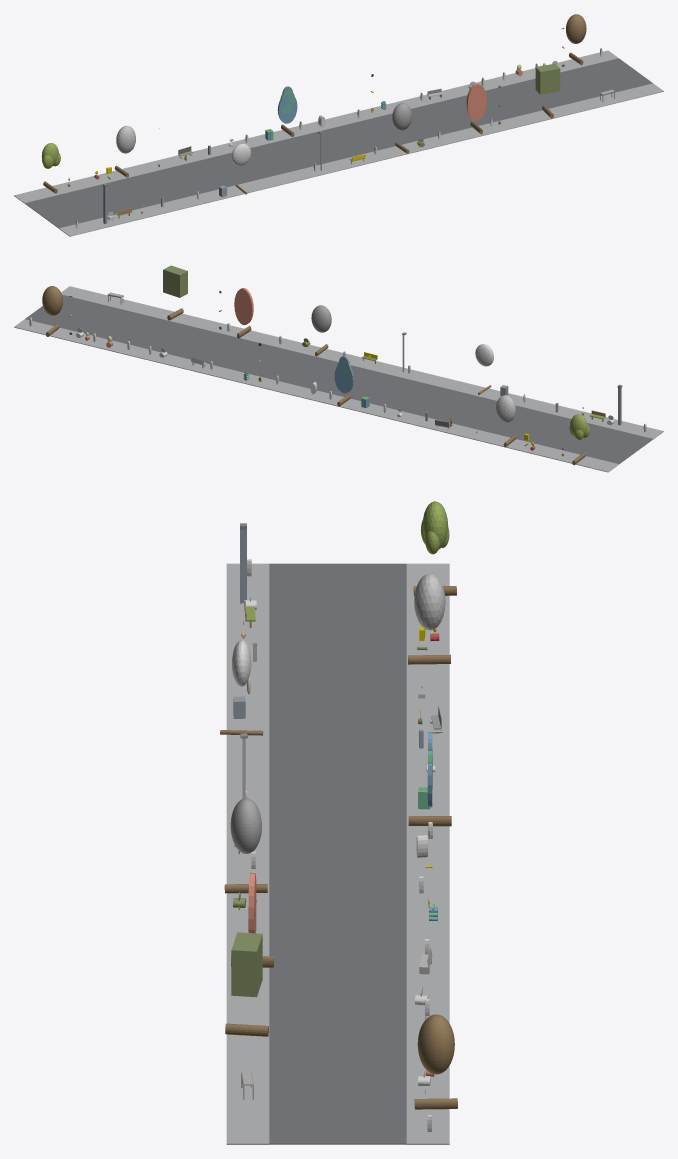
3 renders of one model, top to bottom at view 1: azimuth 30°, elevation 25°; view 2: azimuth 150°, elevation 25°; view 3: azimuth 270°, elevation 25°, orthographic. The views are drawn at different scales.
Visible parts, largest first — view 1: road_slab, sidewalk_left, sidewalk_right, inst_0024, inst_0023, inst_0021, inst_0025, inst_0019, inst_0022, inst_0018, inst_0020; view 2: road_slab, sidewalk_right, sidewalk_left, inst_0024, inst_0023, inst_0021, inst_0025, inst_0022, inst_0019, inst_0018, inst_0020; view 3: road_slab, sidewalk_right, sidewalk_left, inst_0024, inst_0025, inst_0019, inst_0022, inst_0018, inst_0020.
Part boxes in pixels (box(x1,y1,x2,y2)): road_slab: box(25, 58, 652, 228); sidewalk_left: box(59, 83, 663, 236); sidewalk_right: box(14, 50, 618, 203); inst_0024: box(535, 63, 560, 118); inst_0023: box(466, 83, 486, 134); inst_0021: box(277, 86, 297, 137); inst_0025: box(566, 14, 586, 65); inst_0019: box(114, 125, 135, 177); inst_0022: box(392, 103, 412, 153); inst_0018: box(41, 143, 60, 193); inst_0020: box(231, 143, 251, 194); road_slab: box(25, 295, 653, 464); sidewalk_right: box(14, 319, 618, 472); sidewalk_left: box(61, 286, 663, 439); inst_0024: box(163, 265, 187, 320); inst_0023: box(234, 288, 253, 338); inst_0021: box(334, 355, 353, 406); inst_0025: box(42, 286, 62, 336); inst_0022: box(311, 305, 331, 356); inst_0019: box(496, 395, 516, 446); inst_0018: box(569, 414, 589, 465); inst_0020: box(475, 344, 493, 394); road_slab: box(269, 563, 406, 1144); sidewalk_right: box(406, 563, 449, 1144); sidewalk_left: box(226, 563, 269, 1144); inst_0024: box(225, 932, 268, 1036); inst_0025: box(414, 1014, 457, 1109); inst_0019: box(408, 573, 450, 664); inst_0022: box(224, 798, 267, 893); inst_0018: box(413, 501, 456, 596); inst_0020: box(220, 640, 263, 735).
Bounding box in the file's own units: 80 × 6.08 × 13.86.
